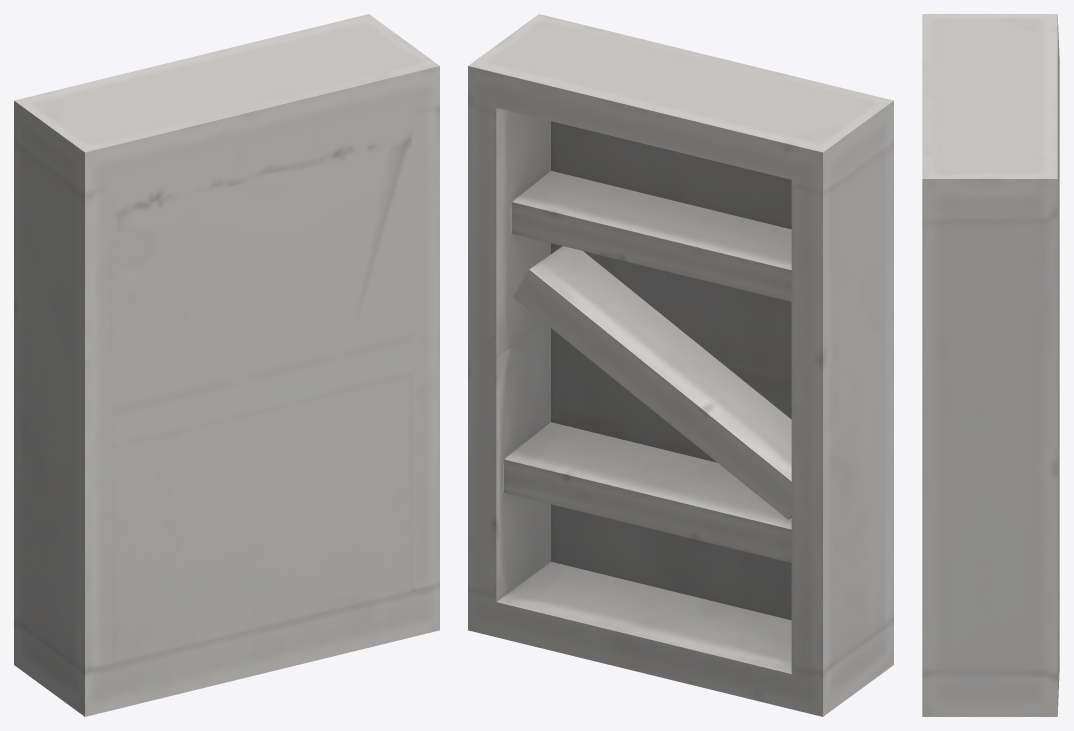
File: Pfb_Indoors_Study_Shelf__7.fbx
3 views of the same model, side by side, from view 1: azimuth 30°, elevation 25°; view 2: azimuth 150°, elevation 25°; view 3: azimuth 270°, elevation 25° (orthographic). The views are drawn at different scales.
Visible parts, largest first — view 1: Mat_Indoors_Study_01_2_JLAB; view 2: Mat_Indoors_Study_01_2_JLAB; view 3: Mat_Indoors_Study_01_2_JLAB.
Part boxes in pixels (<box>): Mat_Indoors_Study_01_2_JLAB: <box>14,14,439,716</box>; Mat_Indoors_Study_01_2_JLAB: <box>468,14,893,716</box>; Mat_Indoors_Study_01_2_JLAB: <box>922,14,1059,716</box>.
Size of the model in its own units: 1.77 by 2.68 by 0.6209.
Materials: 1 (1 with a texture image).
